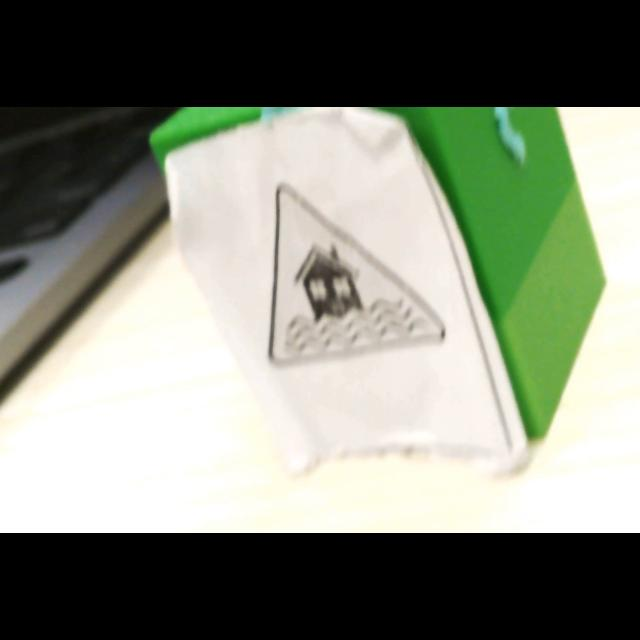Tsunami: (269, 184, 446, 365)
